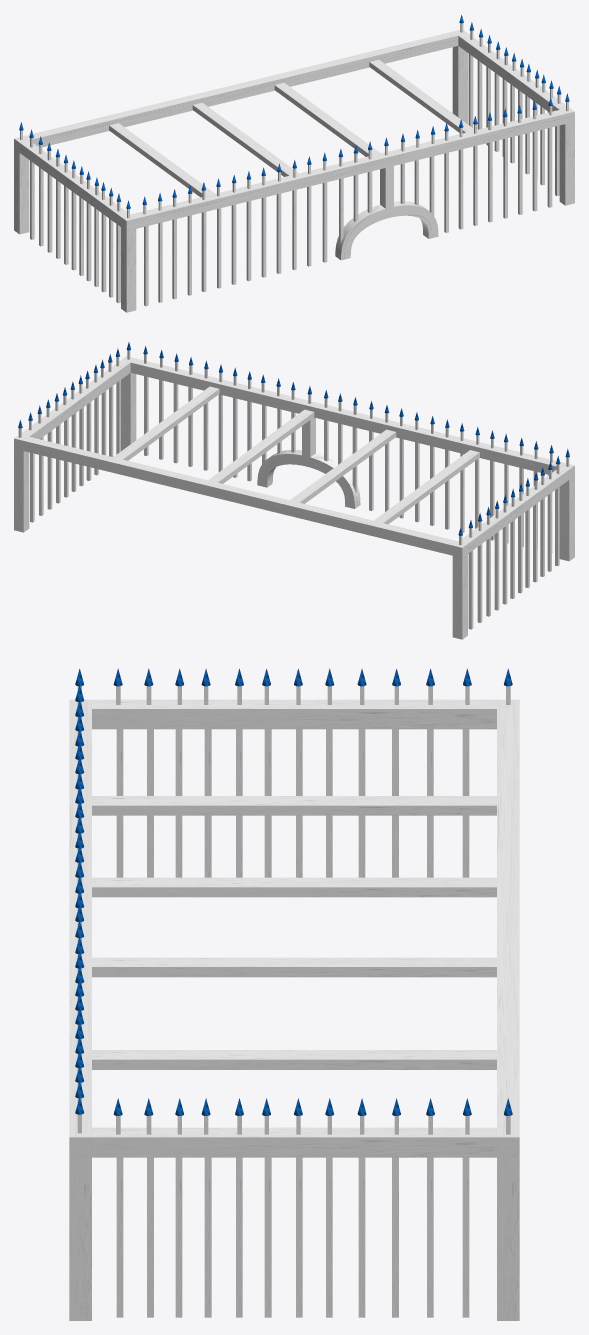
Rendered from varfrente.obj.
3 renders of one model, top to bottom at view 1: azimuth 30°, elevation 25°; view 2: azimuth 150°, elevation 25°; view 3: azimuth 270°, elevation 25°, orthographic. The views are drawn at different scales.
Parts seen in each view (by area): view 1: pasted__pasted__pasted__pasted__group4_pasted__pasted__pasted__p; view 2: pasted__pasted__pasted__pasted__group4_pasted__pasted__pasted__p; view 3: pasted__pasted__pasted__pasted__group4_pasted__pasted__pasted__p.
Part boxes in pixels (x1,y1,x2,y2): pasted__pasted__pasted__pasted__group4_pasted__pasted__pasted__p: [14, 15, 574, 312]; pasted__pasted__pasted__pasted__group4_pasted__pasted__pasted__p: [14, 342, 574, 639]; pasted__pasted__pasted__pasted__group4_pasted__pasted__pasted__p: [69, 668, 519, 1320].
Size of the model in its own units: 23 by 5.38 by 10.
112 materials, 112 textured.
